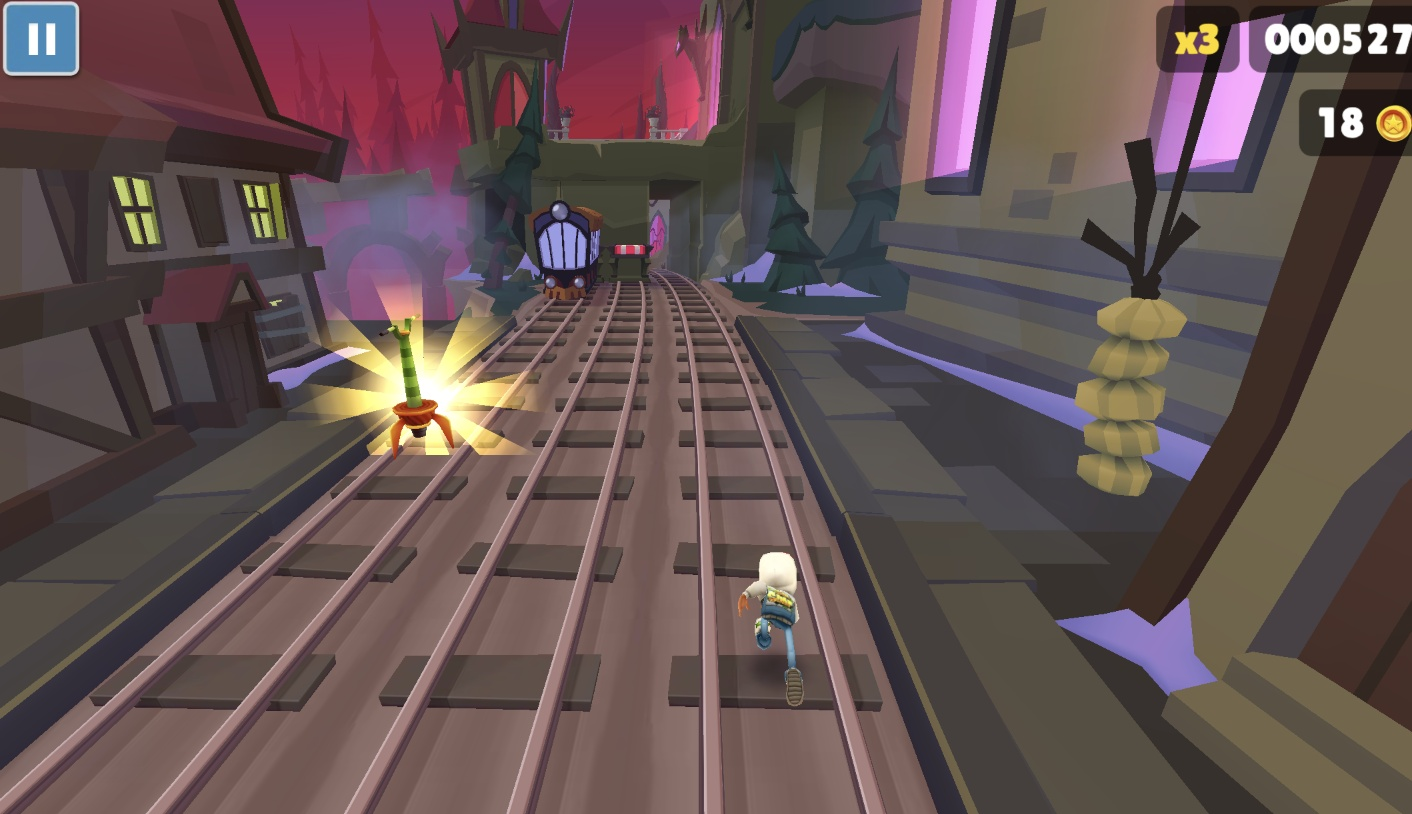ground_barrier: (604, 243, 651, 284)
train: (524, 201, 604, 301)
